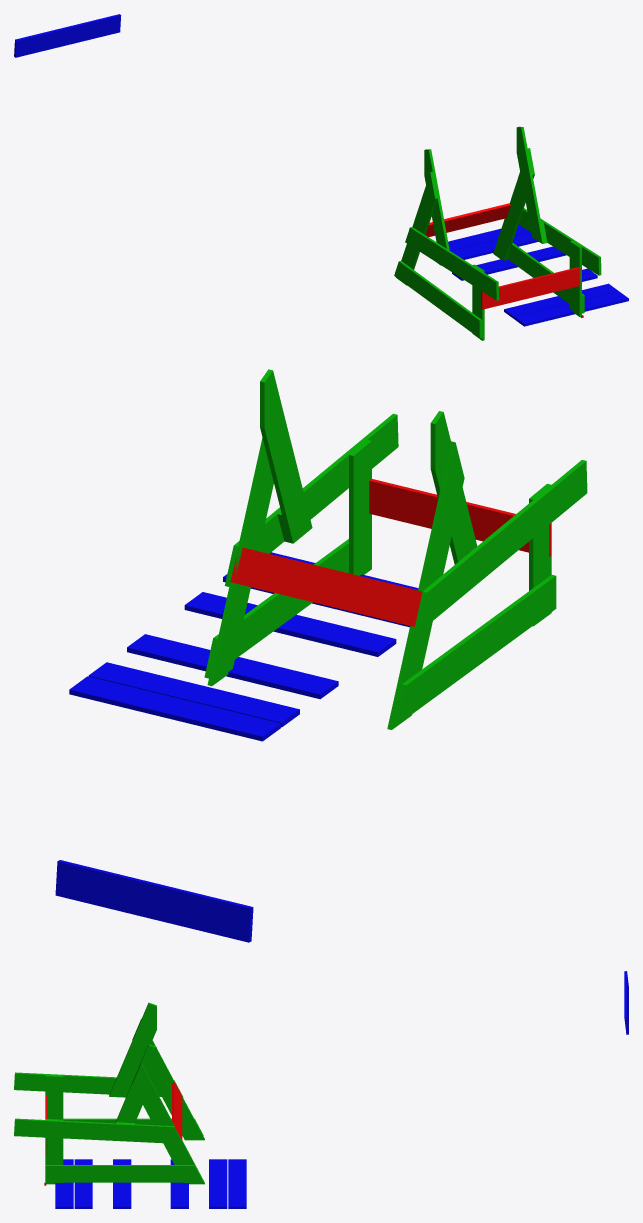
Rendered from result.glb.
3 views of the same model, one above another, from view 1: azimuth 30°, elevation 25°; view 2: azimuth 150°, elevation 25°; view 3: azimuth 270°, elevation 25° (orthographic). The views are drawn at different scales.
Parts seen in each view (by area): view 1: e787927e-9361-49ff-a9ba-ba8ac6dd2204__Box_9, d1dcd48f-81e9-4bc1-a205-13492d969c5e__undefined, 5b0ddc17-36c2-4373-972a-681c4056e327__Plane_1, 396e5ec2-f1d8-4f77-a7de-d0c3c5b074bd__undefined, 75ab2e5c-7554-4d92-bad7-631da2689fee__undefined, 72322b42-0c37-4f80-85f7-a9deb795b8e0__Box_7, c4d4c1e1-740c-4dec-96a8-ae72eada4a9a__undefined, e7553286-c66a-4bbf-b3cf-40a7b4b78ea0__undefined, 7c5d211c-2e9e-4e2b-bb86-0ac04a4ab1d8__undefined, aec2a14f-ae62-43bb-b83d-d3d8689a7c37__Plane_2, 16f49040-141f-468f-b2cf-1b5ec5d62239__Box_8, 5da91fc4-61c1-47d0-9008-392b177764f1__Plane (+5 smaller); view 2: e787927e-9361-49ff-a9ba-ba8ac6dd2204__Box_9, aec2a14f-ae62-43bb-b83d-d3d8689a7c37__Plane_2, d1dcd48f-81e9-4bc1-a205-13492d969c5e__undefined, c4d4c1e1-740c-4dec-96a8-ae72eada4a9a__undefined (×2), 396e5ec2-f1d8-4f77-a7de-d0c3c5b074bd__undefined, 3168b45c-1cc6-43ca-934d-2c1ec9d0e5ee__Box, 7c5d211c-2e9e-4e2b-bb86-0ac04a4ab1d8__undefined, 75ab2e5c-7554-4d92-bad7-631da2689fee__undefined, 0f21ecf7-6456-472b-a532-8312cbfce2a2__Box_3, 76b5225b-2fc0-4f5e-8fbd-a15d1a0b3cb3__Box_2, e7553286-c66a-4bbf-b3cf-40a7b4b78ea0__undefined, 5b0ddc17-36c2-4373-972a-681c4056e327__Plane_1 (+5 smaller); view 3: e7553286-c66a-4bbf-b3cf-40a7b4b78ea0__undefined, 5da91fc4-61c1-47d0-9008-392b177764f1__Plane, c4d4c1e1-740c-4dec-96a8-ae72eada4a9a__undefined (×2), b6ed17db-41c4-41d5-8e69-397fc46bc465__undefined, d1dcd48f-81e9-4bc1-a205-13492d969c5e__undefined, 7c5d211c-2e9e-4e2b-bb86-0ac04a4ab1d8__undefined, 75ab2e5c-7554-4d92-bad7-631da2689fee__undefined, 3168b45c-1cc6-43ca-934d-2c1ec9d0e5ee__Box, 76b5225b-2fc0-4f5e-8fbd-a15d1a0b3cb3__Box_2, 42b1dc7e-97ee-44e0-8863-1408e213954e__undefined, b7afd2ea-221a-4a14-8272-4e3c2716835c__Box_4, 16f49040-141f-468f-b2cf-1b5ec5d62239__Box_8 (+5 smaller).
Part boxes in pixels (x1,y1,x2,y2): e787927e-9361-49ff-a9ba-ba8ac6dd2204__Box_9: (14,14,121,57); d1dcd48f-81e9-4bc1-a205-13492d969c5e__undefined: (405,227,499,300); 5b0ddc17-36c2-4373-972a-681c4056e327__Plane_1: (481,267,581,309); 396e5ec2-f1d8-4f77-a7de-d0c3c5b074bd__undefined: (394,261,482,338); 75ab2e5c-7554-4d92-bad7-631da2689fee__undefined: (516,126,544,243); 72322b42-0c37-4f80-85f7-a9deb795b8e0__Box_7: (514,291,628,326); c4d4c1e1-740c-4dec-96a8-ae72eada4a9a__undefined: (493,148,534,260); e7553286-c66a-4bbf-b3cf-40a7b4b78ea0__undefined: (518,208,601,275); 7c5d211c-2e9e-4e2b-bb86-0ac04a4ab1d8__undefined: (396,172,437,285); aec2a14f-ae62-43bb-b83d-d3d8689a7c37__Plane_2: (425,203,510,237); 16f49040-141f-468f-b2cf-1b5ec5d62239__Box_8: (504,283,618,318); 5da91fc4-61c1-47d0-9008-392b177764f1__Plane: (507,243,584,313); e787927e-9361-49ff-a9ba-ba8ac6dd2204__Box_9: (55,860,253,942); aec2a14f-ae62-43bb-b83d-d3d8689a7c37__Plane_2: (230,547,422,626); d1dcd48f-81e9-4bc1-a205-13492d969c5e__undefined: (413,460,587,632); c4d4c1e1-740c-4dec-96a8-ae72eada4a9a__undefined (×2): (207,437,273,686); 396e5ec2-f1d8-4f77-a7de-d0c3c5b074bd__undefined: (393,574,556,724); 3168b45c-1cc6-43ca-934d-2c1ec9d0e5ee__Box: (69,676,280,741); 7c5d211c-2e9e-4e2b-bb86-0ac04a4ab1d8__undefined: (387,441,464,729); 75ab2e5c-7554-4d92-bad7-631da2689fee__undefined: (260,369,312,543); 0f21ecf7-6456-472b-a532-8312cbfce2a2__Box_3: (127,634,338,699); 76b5225b-2fc0-4f5e-8fbd-a15d1a0b3cb3__Box_2: (88,662,299,727); e7553286-c66a-4bbf-b3cf-40a7b4b78ea0__undefined: (224,413,398,586); 5b0ddc17-36c2-4373-972a-681c4056e327__Plane_1: (369,479,551,557); e7553286-c66a-4bbf-b3cf-40a7b4b78ea0__undefined: (14,1118,183,1143); 5da91fc4-61c1-47d0-9008-392b177764f1__Plane: (45,1165,203,1182); c4d4c1e1-740c-4dec-96a8-ae72eada4a9a__undefined (×2): (132,1063,204,1184); b6ed17db-41c4-41d5-8e69-397fc46bc465__undefined: (109,1002,156,1097); d1dcd48f-81e9-4bc1-a205-13492d969c5e__undefined: (14,1072,183,1097); 7c5d211c-2e9e-4e2b-bb86-0ac04a4ab1d8__undefined: (132,1019,204,1140); 75ab2e5c-7554-4d92-bad7-631da2689fee__undefined: (115,1044,156,1123); 3168b45c-1cc6-43ca-934d-2c1ec9d0e5ee__Box: (228,1159,246,1208); 76b5225b-2fc0-4f5e-8fbd-a15d1a0b3cb3__Box_2: (209,1159,227,1208); 42b1dc7e-97ee-44e0-8863-1408e213954e__undefined: (45,1075,63,1119); b7afd2ea-221a-4a14-8272-4e3c2716835c__Box_4: (113,1159,131,1208); 16f49040-141f-468f-b2cf-1b5ec5d62239__Box_8: (74,1159,92,1208).
Bounding box in the file's own units: 1604 × 758 × 3040.
